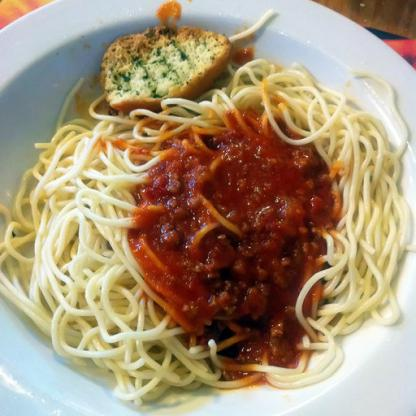pasta: (15, 38, 415, 406)
